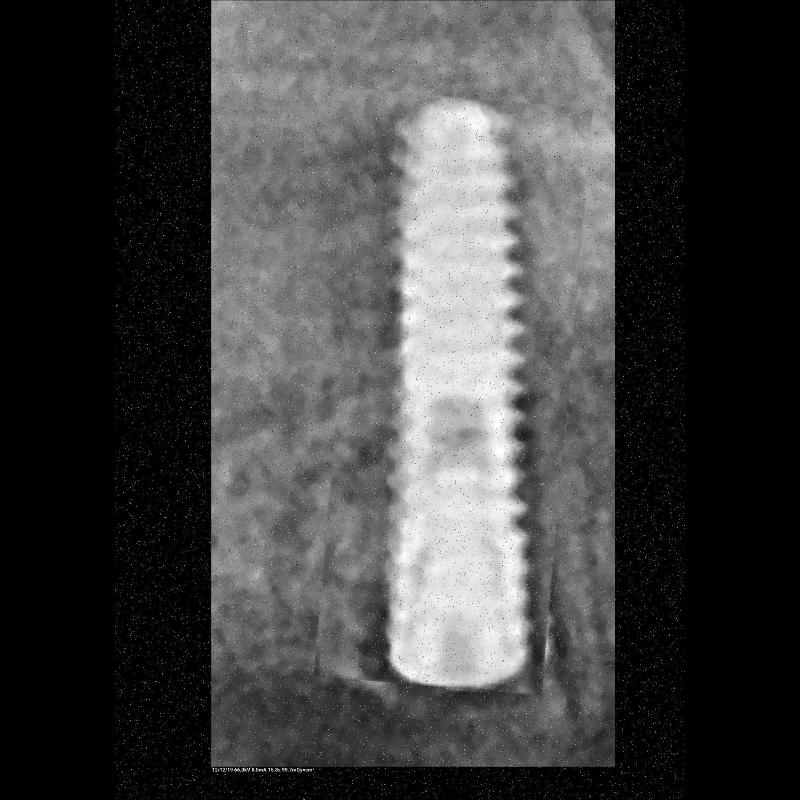osstem: (327, 94, 581, 692)
